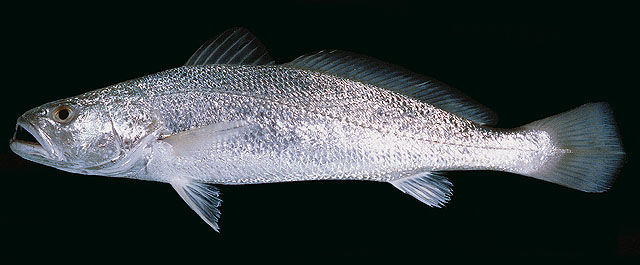fish: (10, 26, 625, 233)
